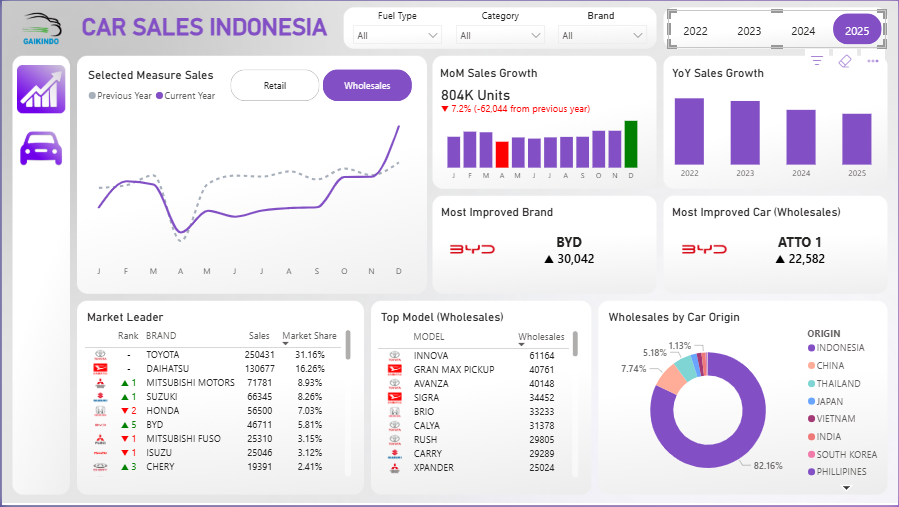

The dashboard page shown, as its layout file describes it:
{"tool":"powerbi","page":{"name":"Page 1","canvas":[1280,720],"ordinal":0},"visuals":[{"type":"lineChart","title":"Selected Measure Sales","fields":{"Category":["DimDate.Month Letter"],"Y":["_Measures.Selected Brand - PY Sales","_Measures.Selected Brand - CY Sales"]},"box":[103.3,75.9,499.6,344.1],"z":0},{"type":"columnChart","fields":{"Category":["DimDate.Month Letter"],"Y":["Brand_Sales.Selected_Measure"]},"box":[617.7,117,310,150],"z":0,"group":"g6"},{"type":"clusteredColumnChart","fields":{"Category":["DimDate.Year"],"Y":["_Measures.Selected Brand - CY Sales"]},"box":[939.6,118.7,323.2,148.7],"z":0,"group":"g5"},{"type":"textbox","box":[956.4,290.8,253.3,24.3],"z":0,"group":"g3"},{"type":"cardVisual","fields":{"Data":["Brand_Logo.Top Market Logo"]},"box":[628.9,315.7,85,77.5],"z":0,"group":"g4"},{"type":"tableEx","fields":{"Values":["Min(Brand_Logo.Logo Link)","_Measures.Rank Multi","Brand_Logo.BRAND","Divide(_Measures.Selected Brand - CY Sales, ScopedEval(_Measures.Selected Brand - CY Sales, []))","_Measures.% of Grand Total"]},"box":[113.4,465.4,390.9,220.2],"z":0,"group":"g2"},{"type":"tableEx","fields":{"Values":["Min(Brand_Logo.Logo Link)","Model1.MODEL","Sum(Model_Wholesales.Wholesales)"]},"box":[531.4,466,297.3,220.1],"z":0,"group":"g1"},{"type":"advancedSlicerVisual","fields":{"Values":["DimDate.Year"]},"box":[951.4,12.9,311.4,54.3],"z":1000},{"type":"textbox","box":[626.5,92.2,221.4,24.3],"z":1000,"group":"g6"},{"type":"textbox","box":[956.4,92.2,221.4,24.3],"z":1000,"group":"g5"},{"type":"cardVisual","fields":{"Data":["_Measures.MIC - Model"]},"box":[1035,315.4,214.7,77.1],"z":1000,"group":"g3"},{"type":"cardVisual","fields":{"Data":["Brand_Logo.Top Market Logo"]},"box":[705.4,315.7,214,78],"z":1000,"group":"g4"},{"type":"textbox","box":[121.4,442,220.2,24.8],"z":1000,"group":"g2"},{"type":"textbox","box":[541.4,442,229.8,24.8],"z":1000,"group":"g1"},{"type":"advancedSlicerVisual","fields":{"Values":["Line_Selection_Table.Type"]},"box":[322.1,92.4,270,55],"z":2000},{"type":"textbox","box":[626.4,291.1,222.2,23.9],"z":2000,"group":"g4"},{"type":"cardVisual","fields":{"Data":["_Measures.MIC - Model"]},"box":[961.4,315.1,88,77.3],"z":2000,"group":"g3"},{"type":"group","id":"g1","title":"Group 2","box":[531.4,442,297.3,244],"z":3000},{"type":"group","id":"g2","title":"Group 1","box":[113.4,442,390.9,243.6],"z":4000},{"type":"group","id":"g3","title":"MIC","box":[956.4,290.8,293.3,101.6],"z":5000},{"type":"group","id":"g4","title":"MIB","box":[626.4,291.1,293,102.6],"z":6000},{"type":"group","id":"g5","title":"YoY","box":[939.6,92.2,323.2,175.3],"z":7000},{"type":"group","id":"g6","title":"MoM","box":[617.7,92.2,310,174.8],"z":8000},{"type":"donutChart","title":"Wholesales by Car Origin","fields":{"Category":["Model1.ORIGIN"],"Y":["Sum(Model_Wholesales.Wholesales)"]},"box":[861.4,441.4,404.3,267.1],"z":9000},{"type":"textbox","box":[780.3,11.4,151.4,24.3],"z":10000},{"type":"slicer","fields":{"Values":["Brand_Logo.BRAND"]},"box":[784.6,24.3,147.1,45.7],"z":11000},{"type":"slicer","fields":{"Values":["Model1.CATEGORY"]},"box":[638.9,24.3,147.1,45.7],"z":12000},{"type":"textbox","box":[638.9,11.4,147.1,24.3],"z":13000},{"type":"slicer","fields":{"Values":["Model1.FUEL"]},"box":[491.8,24.3,147.1,45.7],"z":14000},{"type":"textbox","box":[491.8,11.4,147.1,24.3],"z":15000},{"type":"image","box":[22,90.8,68.8,68.8],"z":16000},{"type":"image","box":[22,176.2,68.8,68.8],"z":17000},{"type":"cardVisual","fields":{"Data":["_Measures.MIC - Model"]},"box":[22,4.3,70,70],"z":18000},{"type":"textbox","box":[101.4,12.9,375.7,54.3],"z":19000}]}

Visuals, with their boxes in screenshot pixels (x1, y1, x2, y2), scaled from the page's 1280x720 canvas onto the 899x507 screenshot:
"Selected Measure Sales" lineChart: region(73, 53, 423, 296)
columnChart - DimDate.Month Letter x Brand_Sales.Selected_Measure: region(434, 82, 652, 188)
clusteredColumnChart - DimDate.Year x _Measures.Selected Brand - CY Sales: region(660, 84, 887, 188)
textbox: region(672, 205, 850, 222)
cardVisual - Brand_Logo.Top Market Logo: region(442, 222, 501, 277)
tableEx - Min(Brand_Logo.Logo Link) x _Measures.Rank Multi: region(80, 328, 354, 483)
tableEx - Min(Brand_Logo.Logo Link) x Model1.MODEL: region(373, 328, 582, 483)
advancedSlicerVisual - DimDate.Year: region(668, 9, 887, 47)
textbox: region(440, 65, 596, 82)
textbox: region(672, 65, 827, 82)
cardVisual - _Measures.MIC - Model: region(727, 222, 878, 276)
cardVisual - Brand_Logo.Top Market Logo: region(495, 222, 646, 277)
textbox: region(85, 311, 240, 329)
textbox: region(380, 311, 542, 329)
advancedSlicerVisual - Line_Selection_Table.Type: region(226, 65, 416, 104)
textbox: region(440, 205, 596, 222)
cardVisual - _Measures.MIC - Model: region(675, 222, 737, 276)
"Group 2" group: region(373, 311, 582, 483)
"Group 1" group: region(80, 311, 354, 483)
"MIC" group: region(672, 205, 878, 276)
"MIB" group: region(440, 205, 646, 277)
"YoY" group: region(660, 65, 887, 188)
"MoM" group: region(434, 65, 652, 188)
"Wholesales by Car Origin" donutChart: region(605, 311, 889, 499)
textbox: region(548, 8, 654, 25)
slicer - Brand_Logo.BRAND: region(551, 17, 654, 49)
slicer - Model1.CATEGORY: region(449, 17, 552, 49)
textbox: region(449, 8, 552, 25)
slicer - Model1.FUEL: region(345, 17, 449, 49)
textbox: region(345, 8, 449, 25)
image: region(15, 64, 64, 112)
image: region(15, 124, 64, 173)
cardVisual - _Measures.MIC - Model: region(15, 3, 65, 52)
textbox: region(71, 9, 335, 47)
